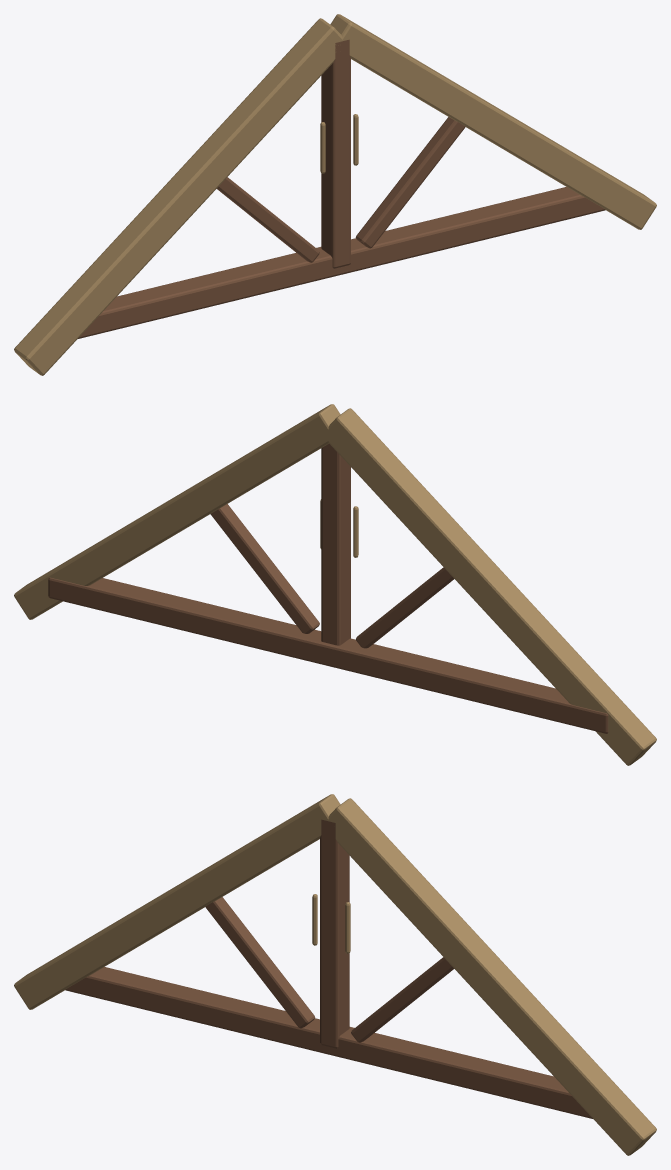
File: gable_end_4m__structure.glb
The picture shows the model from 3 angles, top to bottom: view 1: azimuth 30°, elevation 25°; view 2: azimuth 150°, elevation 25°; view 3: azimuth 330°, elevation 25°; orthographic projection.
Parts seen in each view (by area): view 1: gable_end_4m__structure__mesh_00; view 2: gable_end_4m__structure__mesh_00; view 3: gable_end_4m__structure__mesh_00.
Boxes of the visible parts, box(x1,y1,x2,y2) form: gable_end_4m__structure__mesh_00: box(14, 14, 656, 375); gable_end_4m__structure__mesh_00: box(14, 404, 656, 765); gable_end_4m__structure__mesh_00: box(14, 794, 656, 1155).
Bounding box in the file's own units: 4.61 × 1.94 × 0.19.
